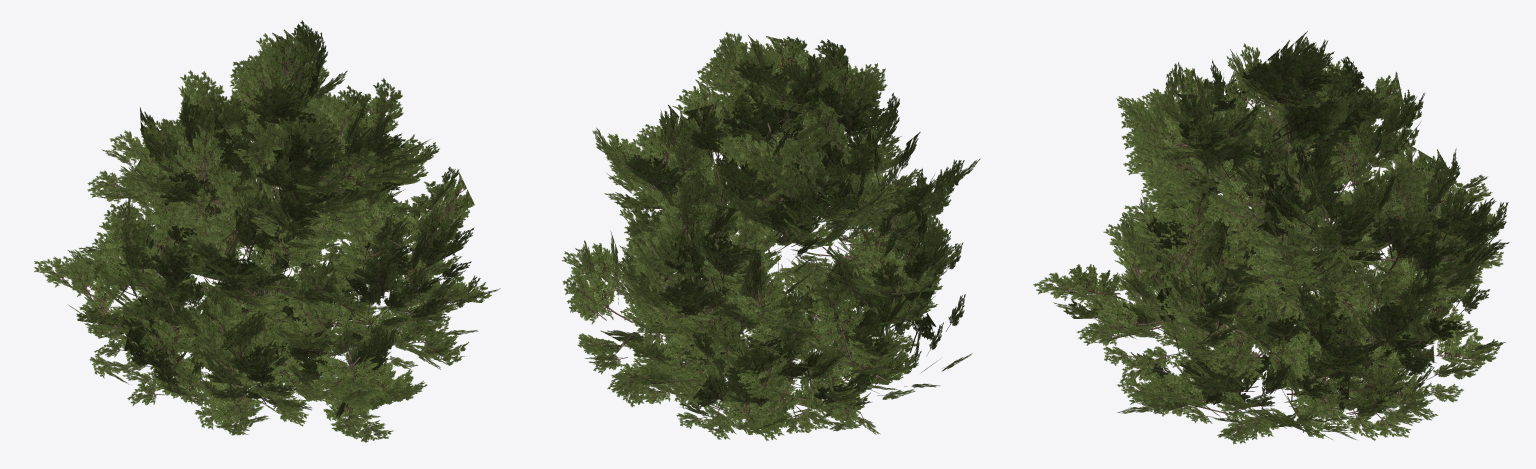
File: conifer_shrub_0.glb
3 renders of one model, left to right at view 1: azimuth 30°, elevation 25°; view 2: azimuth 150°, elevation 25°; view 3: azimuth 270°, elevation 25°, orthographic. The views are drawn at different scales.
Visible parts, largest first — view 1: ConiferousShrub; view 2: ConiferousShrub; view 3: ConiferousShrub.
Part boxes in pixels (bbox=[...]): ConiferousShrub: bbox=[34, 20, 500, 442]; ConiferousShrub: bbox=[562, 32, 980, 440]; ConiferousShrub: bbox=[1033, 31, 1509, 444].
Size of the model in its own units: 10.92 by 10.06 by 11.44.
Materials: 2 (2 with a texture image).
